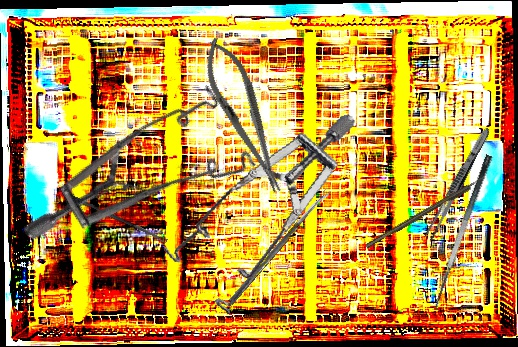Dressing Forceps: (423, 125, 493, 242)
Hook Surgical: (364, 174, 488, 250)
Needle Holder: (192, 31, 296, 201)
Spatula Surgical: (427, 153, 506, 315)
Speculum: (20, 45, 279, 321), (143, 113, 393, 326)
Surgical Spoon: (228, 187, 332, 306), (61, 190, 168, 245)
